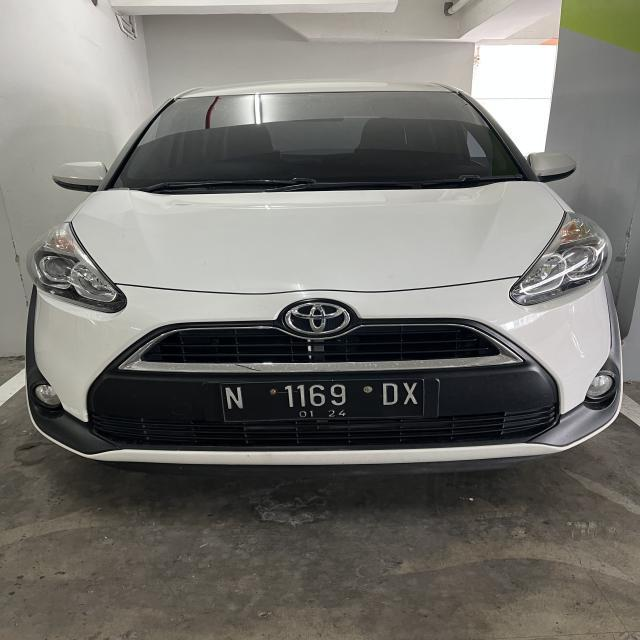1: (296, 383, 306, 409), (284, 384, 294, 409)
6: (310, 384, 328, 406)
9: (331, 384, 348, 406)
D: (380, 382, 400, 404)
N: (222, 386, 246, 411)
X: (402, 381, 420, 407)
